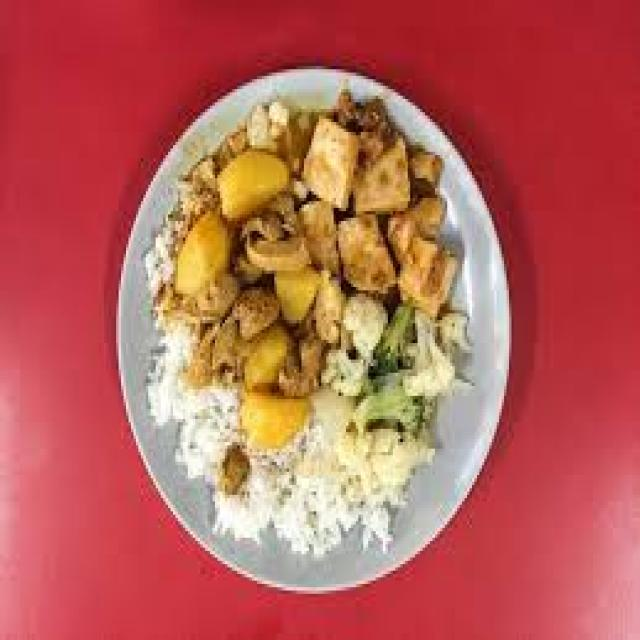Green veg: (321, 294, 465, 442)
Potato: (173, 148, 287, 297), (240, 327, 306, 449), (272, 271, 319, 320)
Rice: (148, 310, 432, 554), (143, 218, 178, 297)
Tofu: (294, 96, 455, 313)
